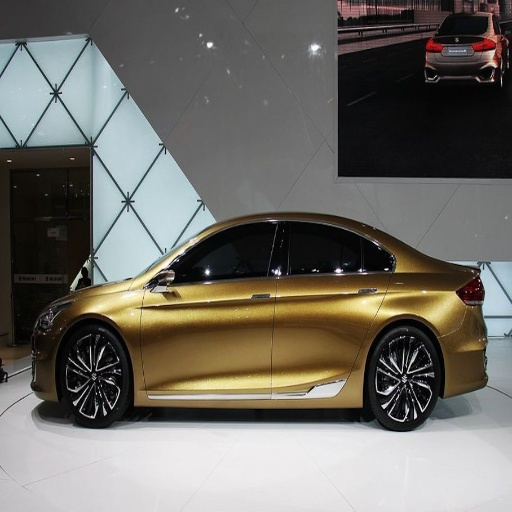back_left_door: (272, 219, 391, 394)
front_left_door: (141, 220, 286, 393)
